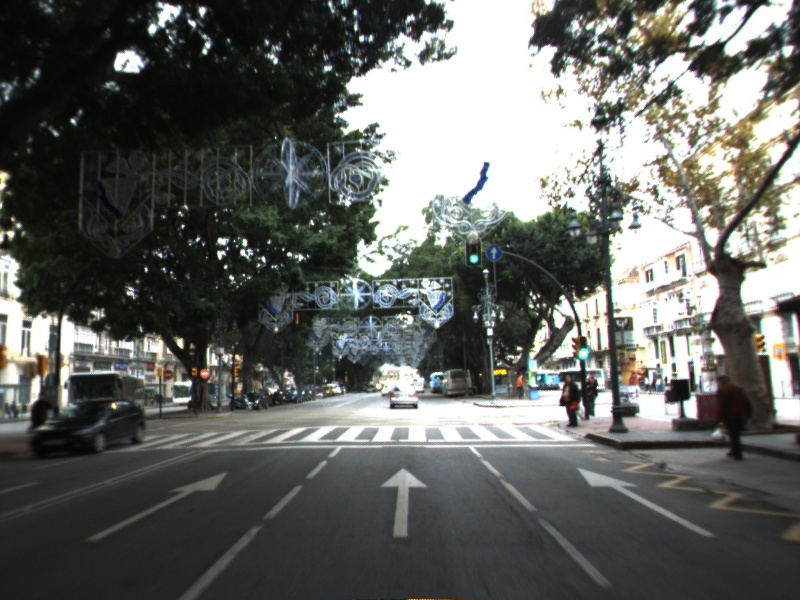STRAIGHT: (81, 470, 231, 544), (574, 465, 720, 540), (378, 466, 430, 540)
